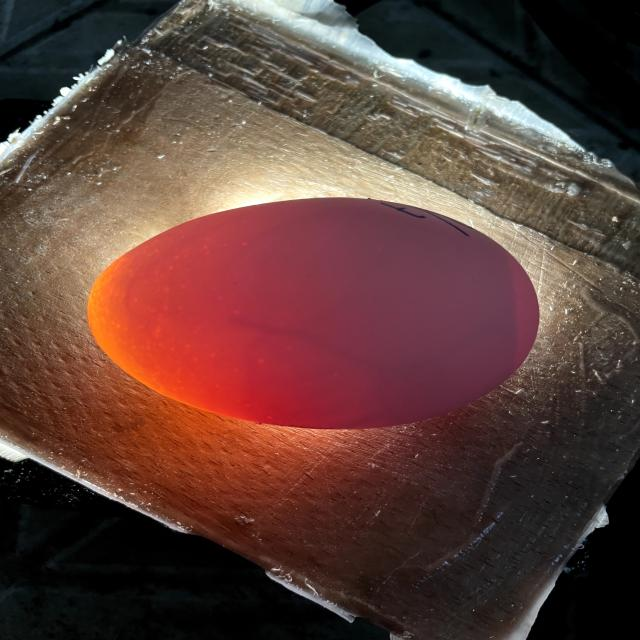fertile: (88, 198, 538, 429)
